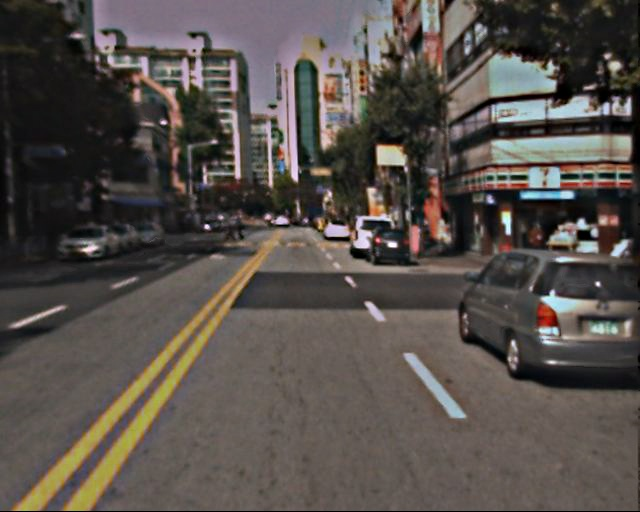person: (524, 215, 550, 274), (235, 210, 248, 241)
